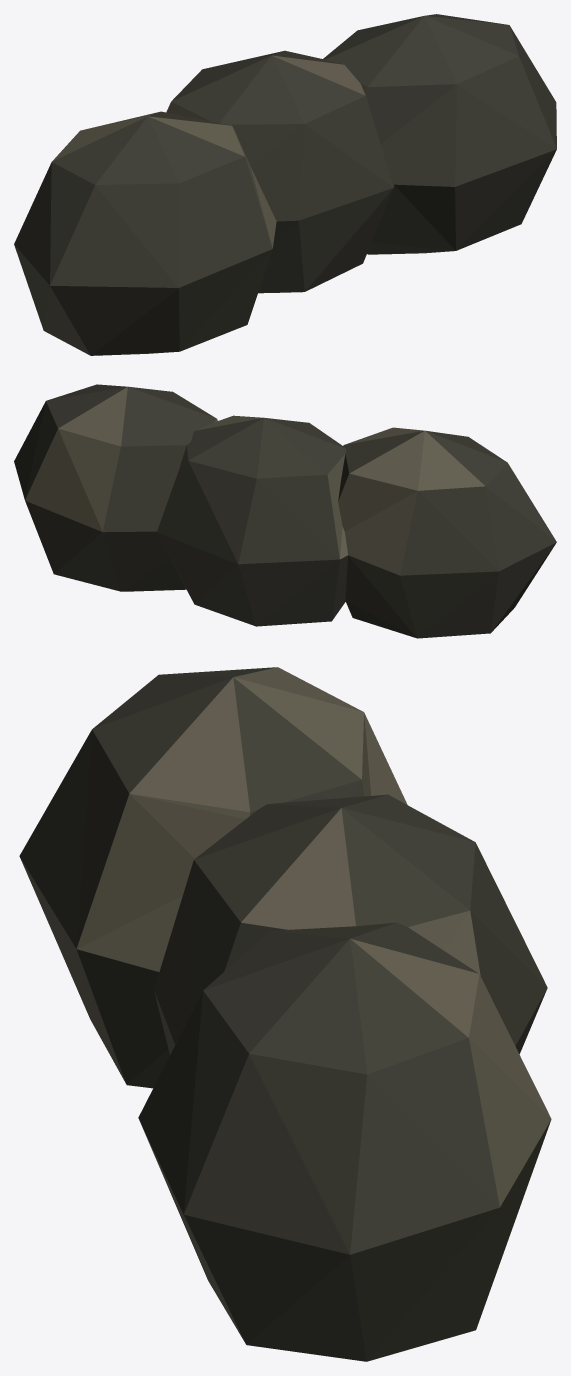
Rendered from Rock_Cluster_01.fbx.
3 views of the same model, one above another, from view 1: azimuth 30°, elevation 25°; view 2: azimuth 150°, elevation 25°; view 3: azimuth 270°, elevation 25° (orthographic). The views are drawn at different scales.
Parts seen in each view (by area): view 1: Rock_Cluster_01_Mesh; view 2: Rock_Cluster_01_Mesh; view 3: Rock_Cluster_01_Mesh.
Part boxes in pixels (bbox=[...]): Rock_Cluster_01_Mesh: bbox=[14, 14, 556, 355]; Rock_Cluster_01_Mesh: bbox=[14, 384, 556, 638]; Rock_Cluster_01_Mesh: bbox=[19, 667, 551, 1361].
Bounding box in the file's own units: 1.32 × 0.528 × 0.6211.
Materials: 1 (1 with a texture image).
